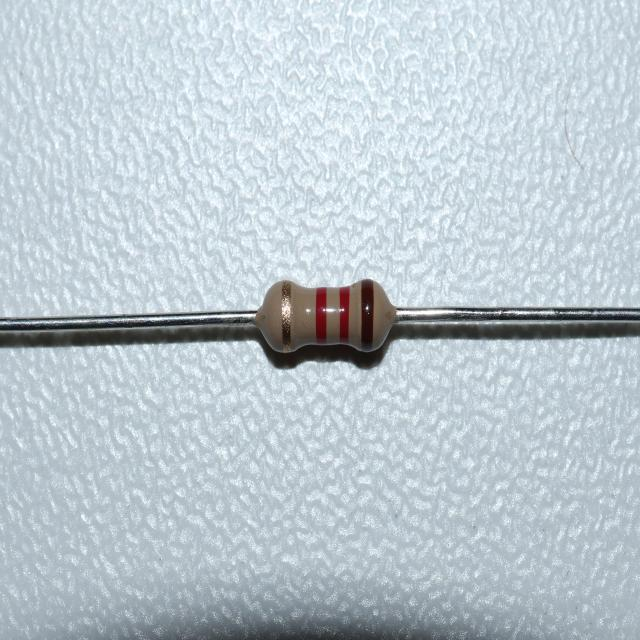resistor: (266, 275, 383, 356)
